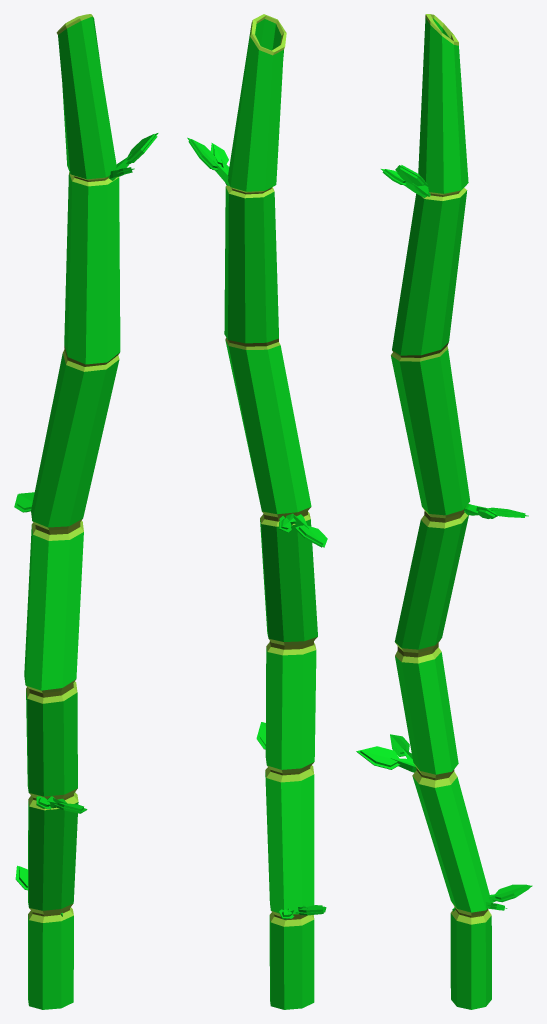
File: Bamboo Medium.fbx
The picture shows the model from 3 angles, left to right: view 1: azimuth 30°, elevation 25°; view 2: azimuth 210°, elevation 25°; view 3: azimuth 270°, elevation 25°; orthographic projection. The views are drawn at different scales.
Visible parts, largest first — view 1: BambooM; view 2: BambooM; view 3: BambooM.
Part boxes in pixels (box(x1,y1,x2,y2)): BambooM: box(14, 14, 158, 1009); BambooM: box(187, 14, 327, 1009); BambooM: box(356, 14, 532, 1009).
Bounding box in the file's own units: 31.22 × 235 × 38.03.
